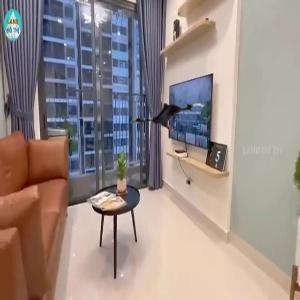drone: (130, 78, 208, 156)
